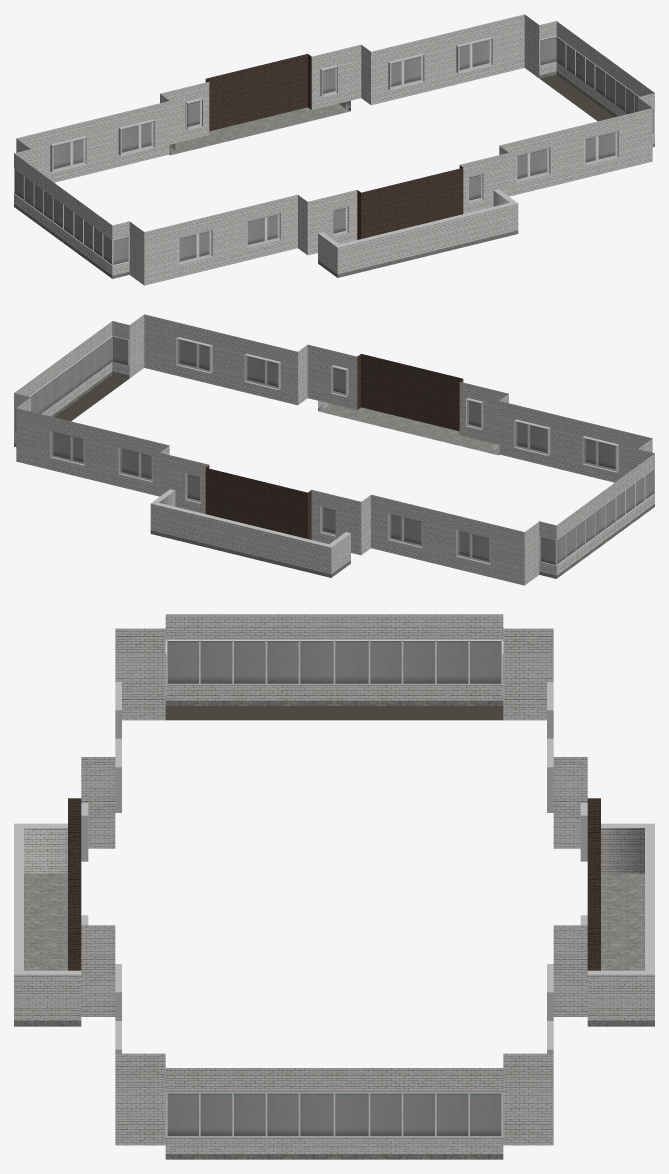
Rendered from Building_2.fbx.
3 views of the same model, one above another, from view 1: azimuth 30°, elevation 25°; view 2: azimuth 150°, elevation 25°; view 3: azimuth 270°, elevation 25° (orthographic). The views are drawn at different scales.
Parts seen in each view (by area): view 1: Building_2; view 2: Building_2; view 3: Building_2.
Boxes of the visible parts, x1=… form: Building_2: x1=14, y1=14, x2=654, y2=285; Building_2: x1=14, y1=314, x2=654, y2=585; Building_2: x1=14, y1=614, x2=654, y2=1159.
Bounding box in the file's own units: 3180 × 360 × 1900.
